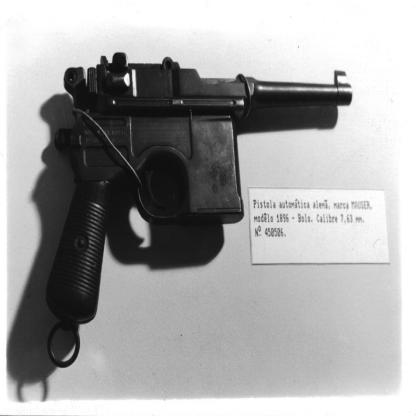Handgun: (44, 51, 352, 367)
